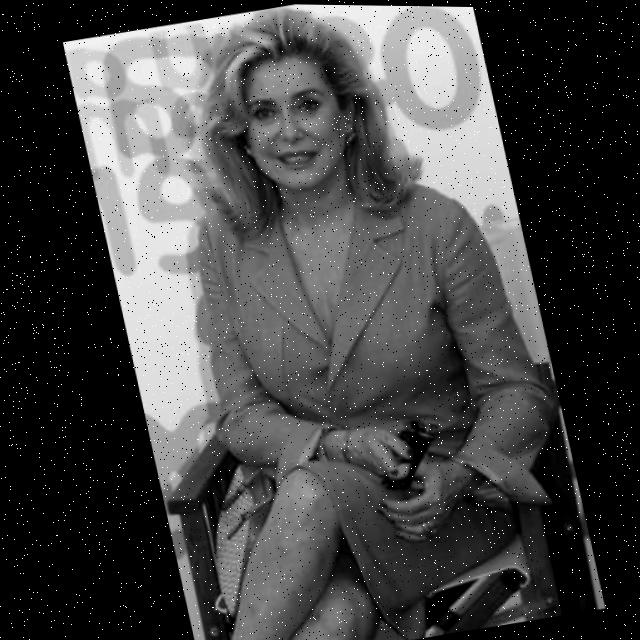face: (214, 37, 377, 205)
